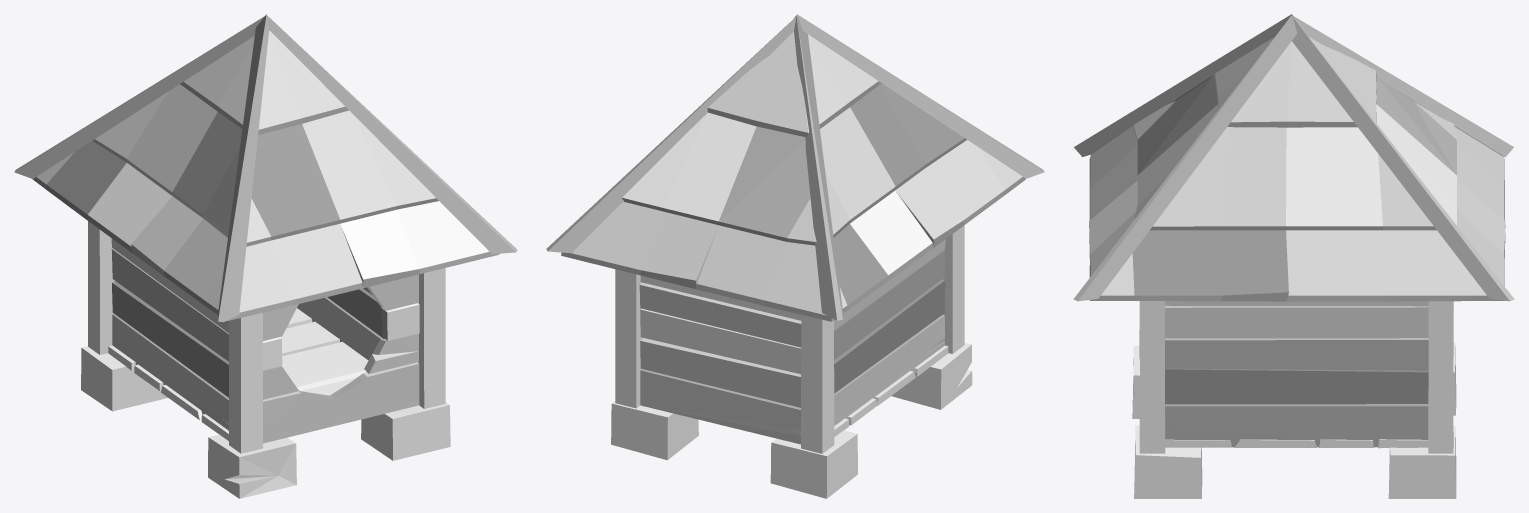
File: PT_Dog_House_01.fbx
3 views of the same model, side by side, from view 1: azimuth 30°, elevation 25°; view 2: azimuth 150°, elevation 25°; view 3: azimuth 270°, elevation 25° (orthographic). The views are drawn at different scales.
Parts seen in each view (by area): view 1: PT_Dog_House_01; view 2: PT_Dog_House_01; view 3: PT_Dog_House_01.
Part boxes in pixels (bbox=[...]): PT_Dog_House_01: bbox=[14, 14, 517, 498]; PT_Dog_House_01: bbox=[546, 14, 1044, 498]; PT_Dog_House_01: bbox=[1073, 14, 1514, 498].
Bounding box in the file's own units: 101 × 131 × 122.
1 material, 1 textured.
